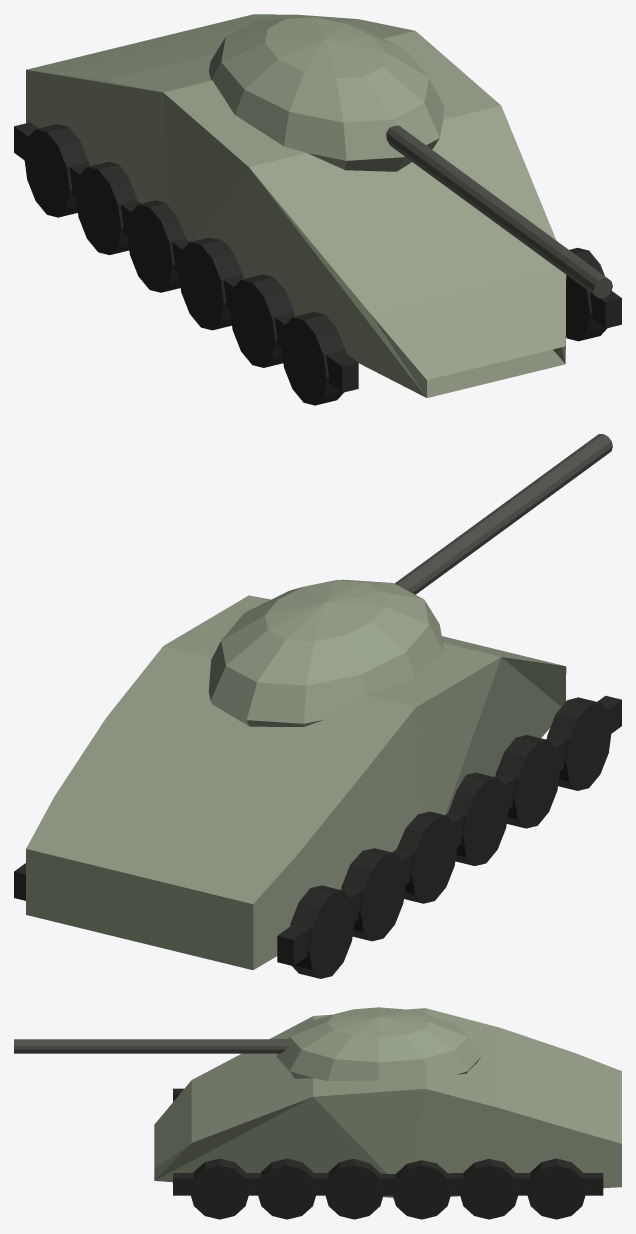
File: m4_sherman.glb
3 views of the same model, one above another, from view 1: azimuth 30°, elevation 25°; view 2: azimuth 150°, elevation 25°; view 3: azimuth 270°, elevation 25° (orthographic). The views are drawn at different scales.
Parts seen in each view (by area): view 1: Hull, Turret, Gun, Wheel_L_01, Wheel_L_02, Wheel_L_06, Wheel_L_03, Wheel_L_05, Wheel_L_04, Track_L, Wheel_R_01, Track_R; view 2: Hull, Turret, Gun, Wheel_L_06, Wheel_L_02, Wheel_L_01, Wheel_L_05, Wheel_L_03, Wheel_L_04, Track_L; view 3: Hull, Turret, Gun, Wheel_R_06, Wheel_R_01, Wheel_R_02, Wheel_R_05, Wheel_R_03, Wheel_R_04, Track_R.
Part boxes in pixels (box(x1,y1,x2,y2)): Hull: box(26, 14, 566, 397); Turret: box(209, 17, 444, 171); Gun: box(386, 125, 612, 298); Wheel_L_01: box(281, 312, 345, 405); Wheel_L_02: box(229, 274, 294, 367); Wheel_L_06: box(24, 124, 88, 217); Wheel_L_03: box(178, 237, 242, 330); Wheel_L_05: box(75, 161, 137, 255); Wheel_L_04: box(127, 200, 185, 292); Track_L: box(14, 122, 358, 392); Wheel_R_01: box(566, 247, 606, 341); Track_R: box(590, 291, 621, 328); Hull: box(26, 595, 566, 970); Turret: box(208, 579, 444, 726); Gun: box(394, 434, 612, 594); Wheel_L_06: box(290, 885, 354, 978); Wheel_L_02: box(495, 735, 560, 828); Wheel_L_01: box(547, 697, 611, 790); Wheel_L_05: box(341, 848, 406, 941); Wheel_L_03: box(448, 772, 508, 865); Wheel_L_04: box(397, 811, 457, 903); Track_L: box(277, 695, 621, 966); Hull: box(154, 1008, 621, 1197); Turret: box(276, 1007, 481, 1080); Gun: box(14, 1039, 287, 1053); Wheel_R_06: box(526, 1158, 586, 1219); Wheel_R_01: box(190, 1158, 249, 1219); Wheel_R_02: box(257, 1158, 316, 1219); Wheel_R_05: box(459, 1159, 518, 1219); Wheel_R_03: box(324, 1159, 384, 1219); Wheel_R_04: box(392, 1160, 451, 1219); Track_R: box(173, 1173, 603, 1195).
Size of the model in its own units: 2.72 by 2.19 by 7.67.
